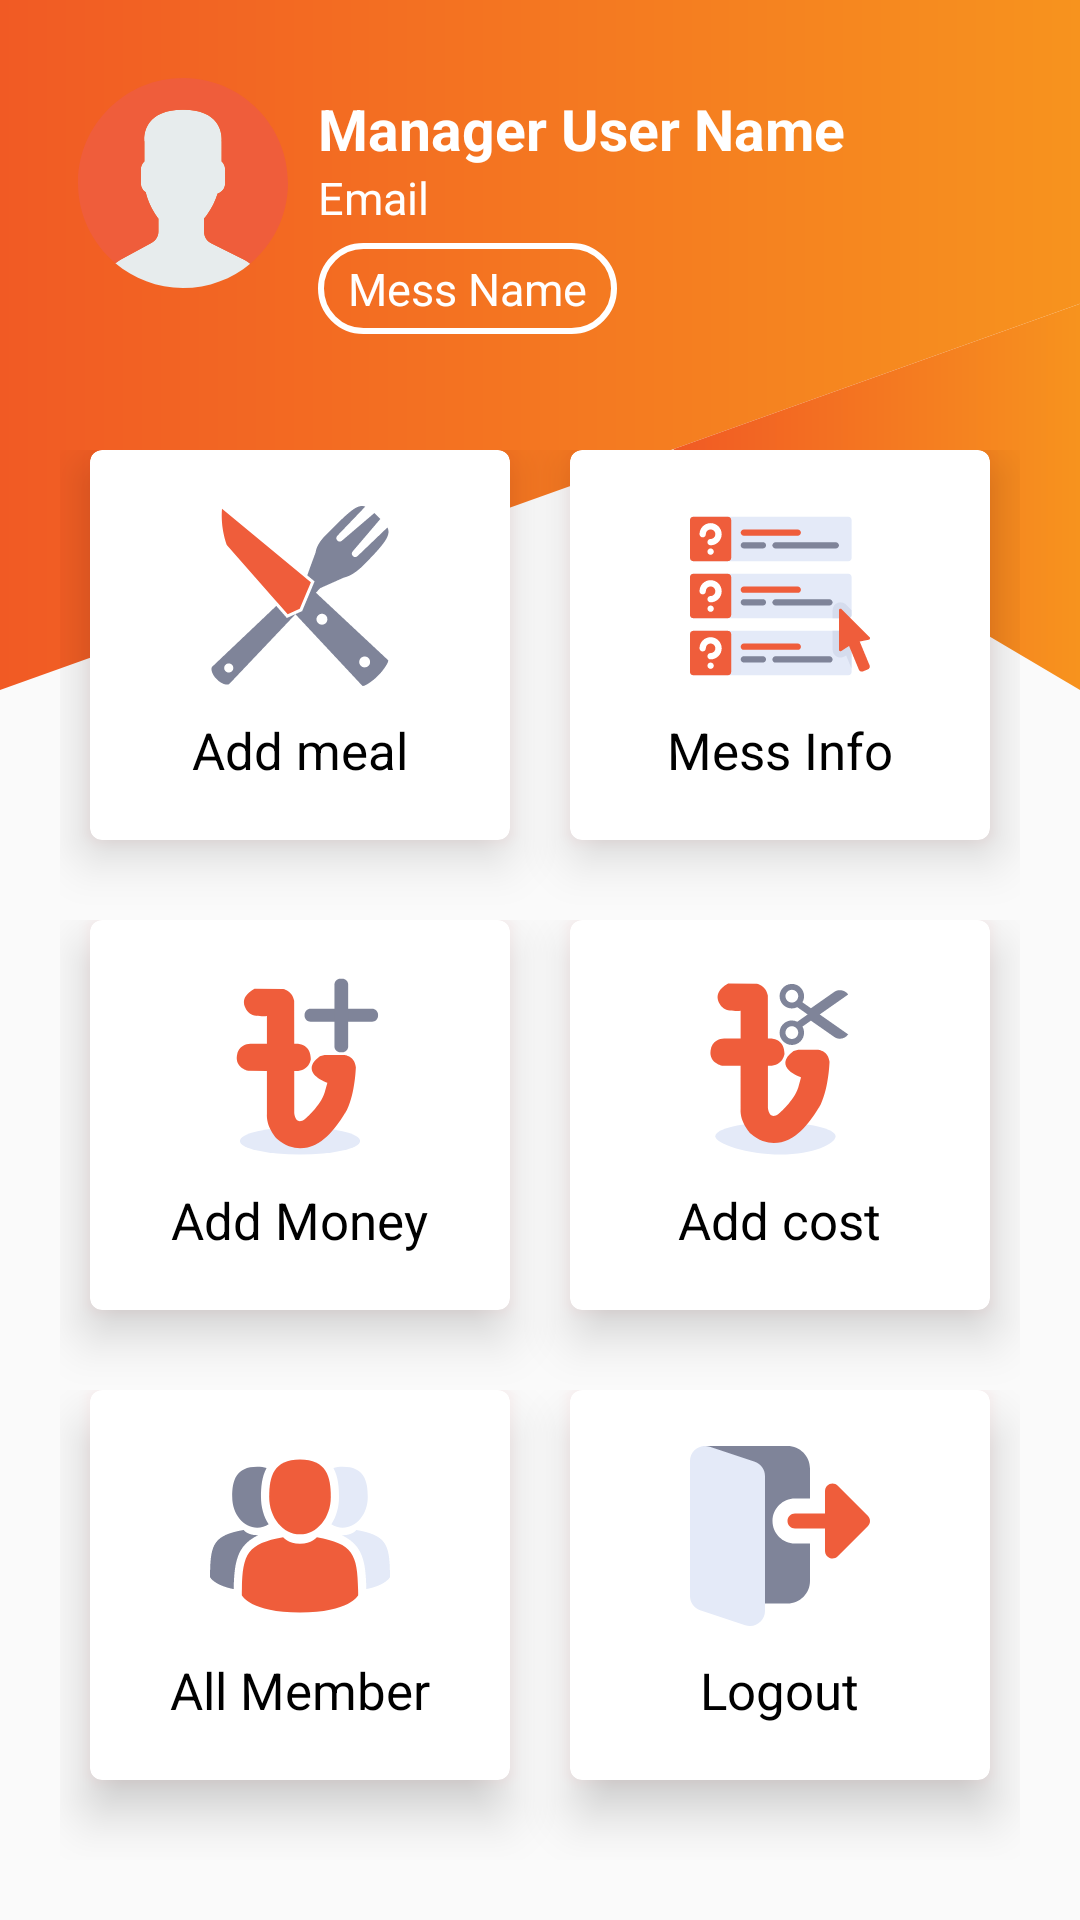

Screen size 1080×1920. Icon name, then its center in pixels as (x=x, y=y):
taka: (x=307, y=1066)
